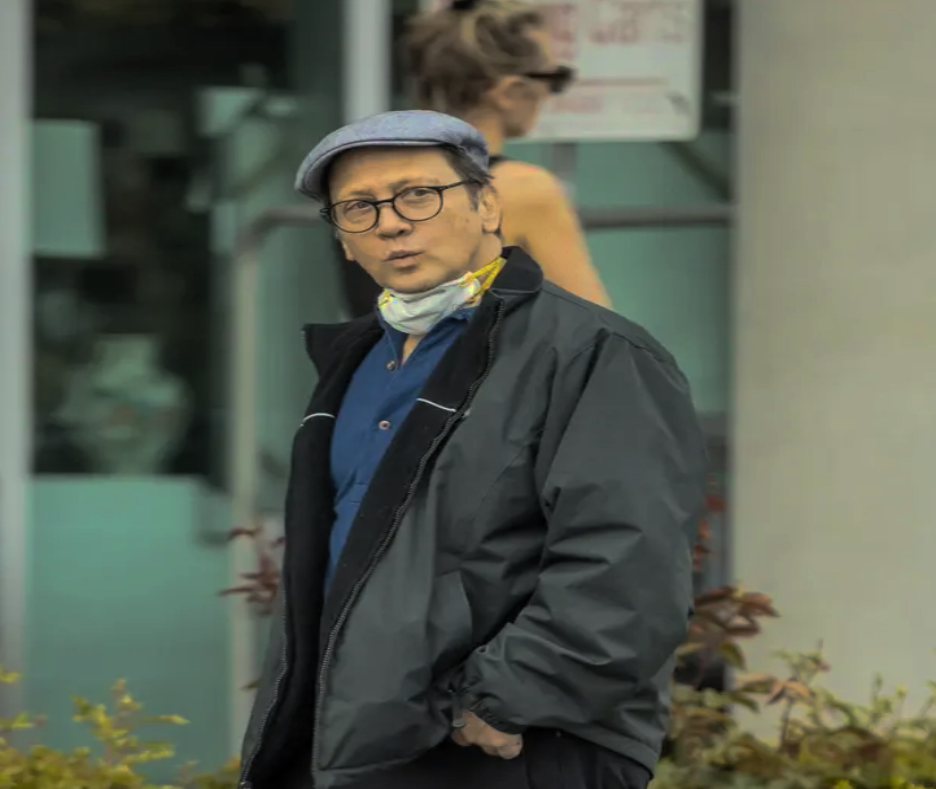mask_weared_incorrect: (292, 104, 525, 339)
